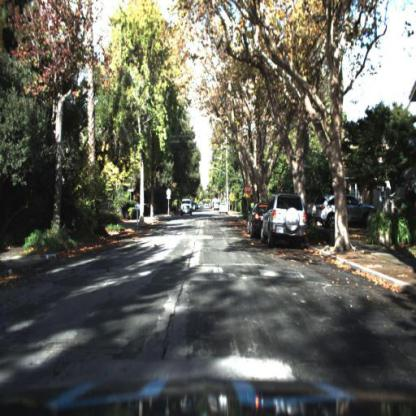car: (260, 192, 309, 250), (313, 194, 376, 230), (246, 203, 264, 244), (181, 198, 194, 219), (219, 200, 231, 219)
